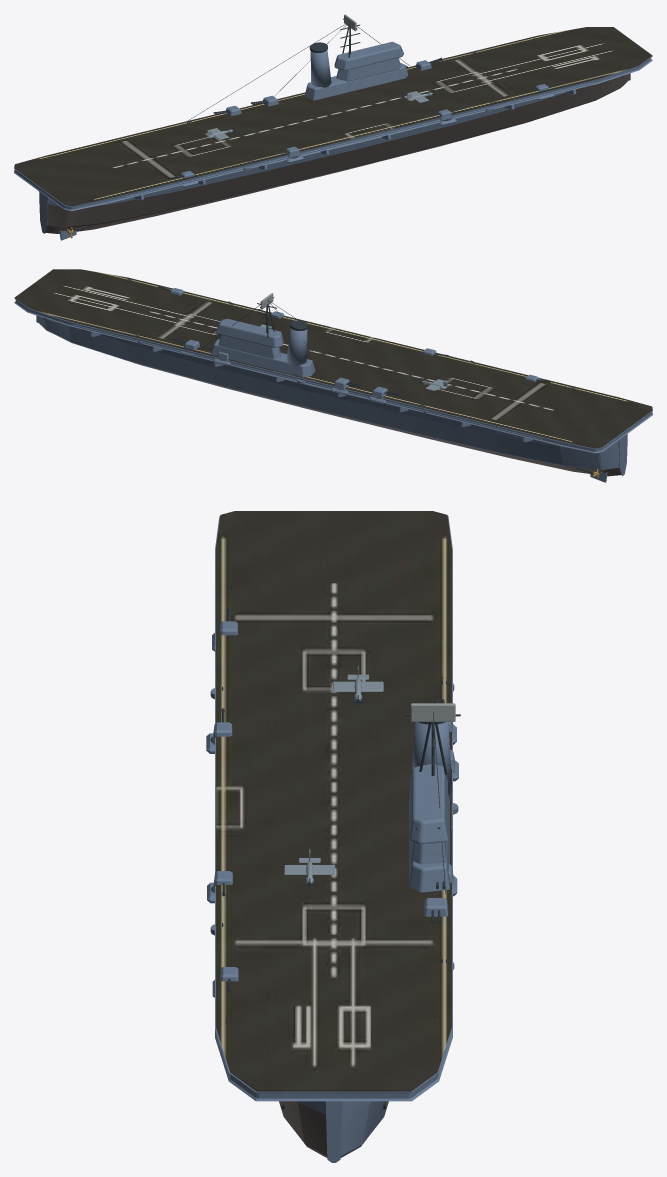
Rendered from carrier-classic.glb.
3 renders of one model, top to bottom at view 1: azimuth 30°, elevation 25°; view 2: azimuth 150°, elevation 25°; view 3: azimuth 270°, elevation 25°, orthographic. The views are drawn at different scales.
Visible parts, largest first — view 1: Essex_V1_Flight_Deck, Essex_V1_Hull, Essex_V1_Flight_Deck_Structure, Essex_V1_Island_Lower, Essex_V1_Island_Bridge, Essex_V1_Catwalk_-1, Essex_V1_Island_Tower, Essex_V1_Funnel; view 2: Essex_V1_Flight_Deck, Essex_V1_Hull, Essex_V1_Flight_Deck_Structure, Essex_V1_Island_Lower, Essex_V1_Island_Bridge, Essex_V1_Catwalk_+1, Essex_V1_Island_Tower, Essex_V1_Funnel; view 3: Essex_V1_Flight_Deck, Essex_V1_Hull, Essex_V1_Flight_Deck_Structure, Essex_V1_Island_Bridge, Essex_V1_Funnel, Essex_V1_Island_Lower.
Boxes of the visible parts, x1,y1,x2,y2 form: Essex_V1_Flight_Deck: (14, 27, 652, 206); Essex_V1_Hull: (39, 73, 630, 233); Essex_V1_Flight_Deck_Structure: (14, 55, 652, 211); Essex_V1_Island_Lower: (304, 63, 408, 100); Essex_V1_Island_Bridge: (334, 41, 403, 70); Essex_V1_Catwalk_-1: (125, 82, 593, 197); Essex_V1_Island_Tower: (336, 58, 400, 81); Essex_V1_Funnel: (310, 50, 331, 87); Essex_V1_Flight_Deck: (15, 269, 652, 448); Essex_V1_Hull: (36, 315, 627, 476); Essex_V1_Flight_Deck_Structure: (14, 298, 652, 453); Essex_V1_Island_Lower: (211, 339, 315, 377); Essex_V1_Island_Bridge: (215, 319, 283, 347); Essex_V1_Catwalk_+1: (73, 325, 541, 440); Essex_V1_Island_Tower: (218, 335, 280, 358); Essex_V1_Funnel: (286, 328, 307, 366); Essex_V1_Flight_Deck: (216, 511, 451, 1091); Essex_V1_Hull: (279, 1101, 388, 1162); Essex_V1_Flight_Deck_Structure: (215, 516, 452, 1101); Essex_V1_Island_Bridge: (409, 763, 447, 844); Essex_V1_Funnel: (412, 722, 452, 794); Essex_V1_Island_Lower: (409, 795, 449, 892).
Size of the model in its own units: 48.14 by 9.41 by 8.91.
8 materials, 2 textured.
